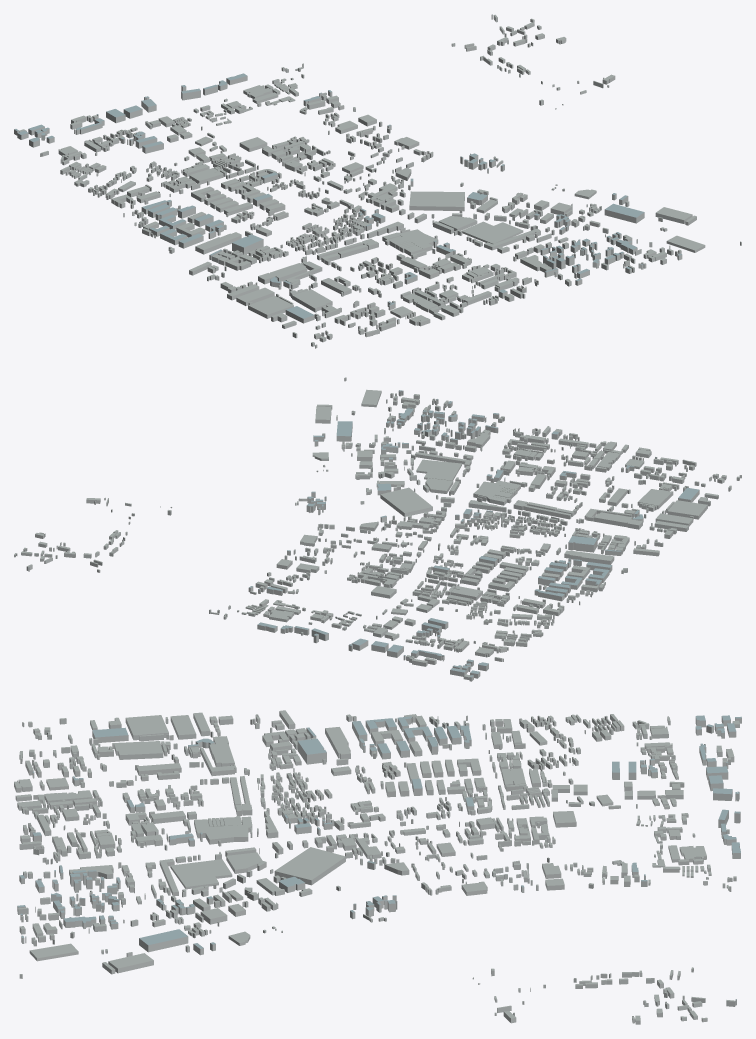
Rendered from far.glb.
3 renders of one model, top to bottom at view 1: azimuth 30°, elevation 25°; view 2: azimuth 150°, elevation 25°; view 3: azimuth 270°, elevation 25°, orthographic. The views are drawn at different scales.
Bounding box in the file's own units: 2137 × 31.57 × 2122.
